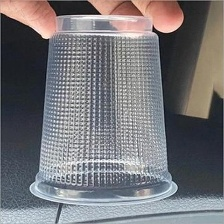glass: (24, 8, 184, 207)
